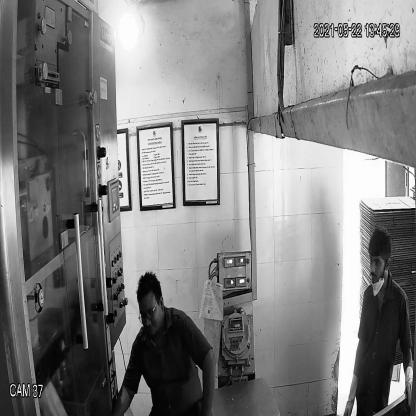goggles: (136, 302, 162, 327)
no_goggles: (368, 253, 391, 270)
